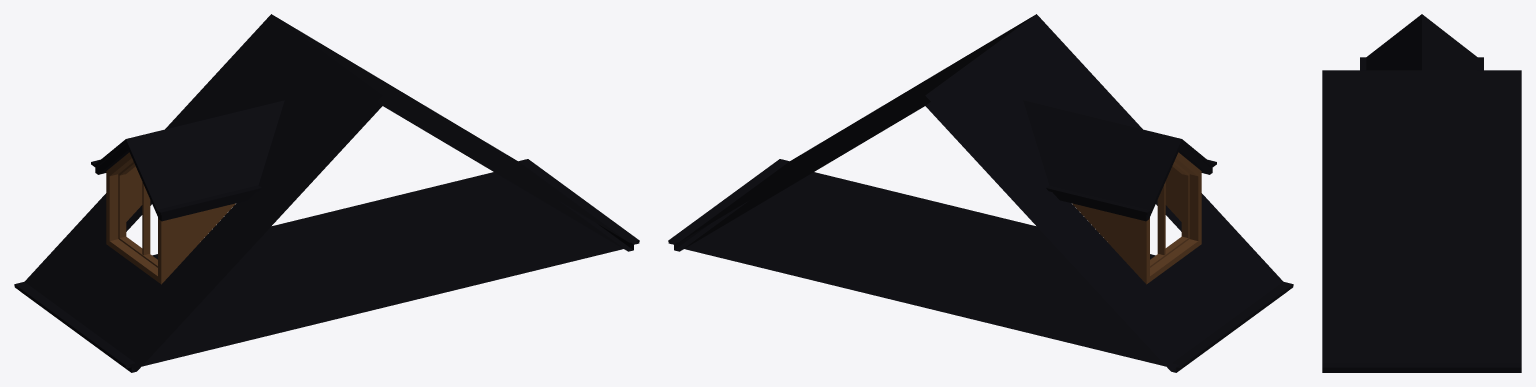
File: Roof Window Big.fbx
3 views of the same model, side by side, from view 1: azimuth 30°, elevation 25°; view 2: azimuth 150°, elevation 25°; view 3: azimuth 270°, elevation 25° (orthographic). The views are drawn at different scales.
Parts seen in each view (by area): view 1: Cube.048; view 2: Cube.048; view 3: Cube.048.
Part boxes in pixels (bbox=[...]): Cube.048: bbox=[14, 14, 639, 372]; Cube.048: bbox=[668, 14, 1293, 372]; Cube.048: bbox=[1322, 14, 1521, 372].
Size of the model in its own units: 1065 by 428 by 400.
